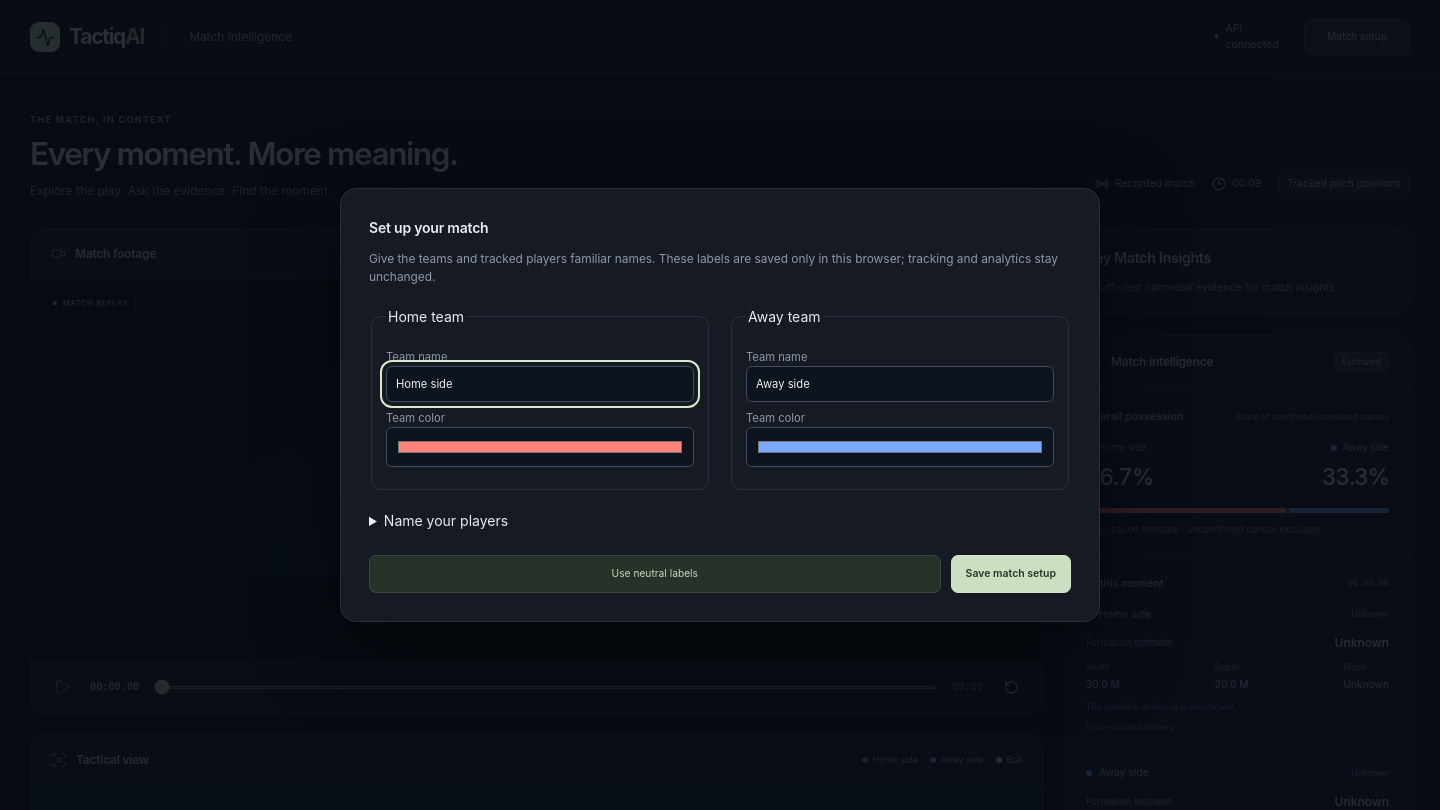
Test: prompts first-time setup and saves team names and colors
Check: the dialog is shown, box [340,188,1100,622]
Replace the text in the 1st field labelled "Team name" with "Berry FC" at (540, 384), box [386,366,694,402]
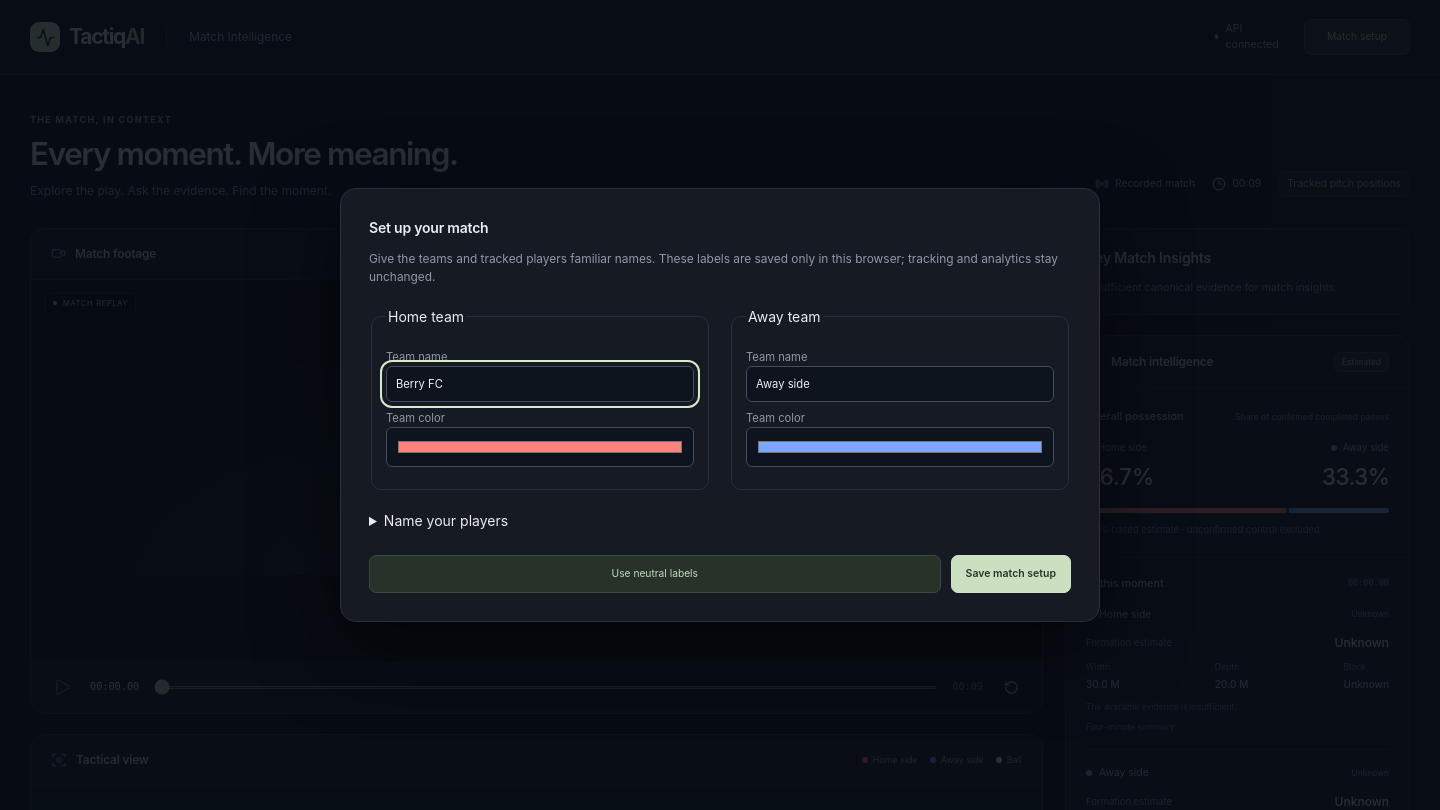
Click the button "Save match setup" at (1011, 574), box [950,555,1071,593]
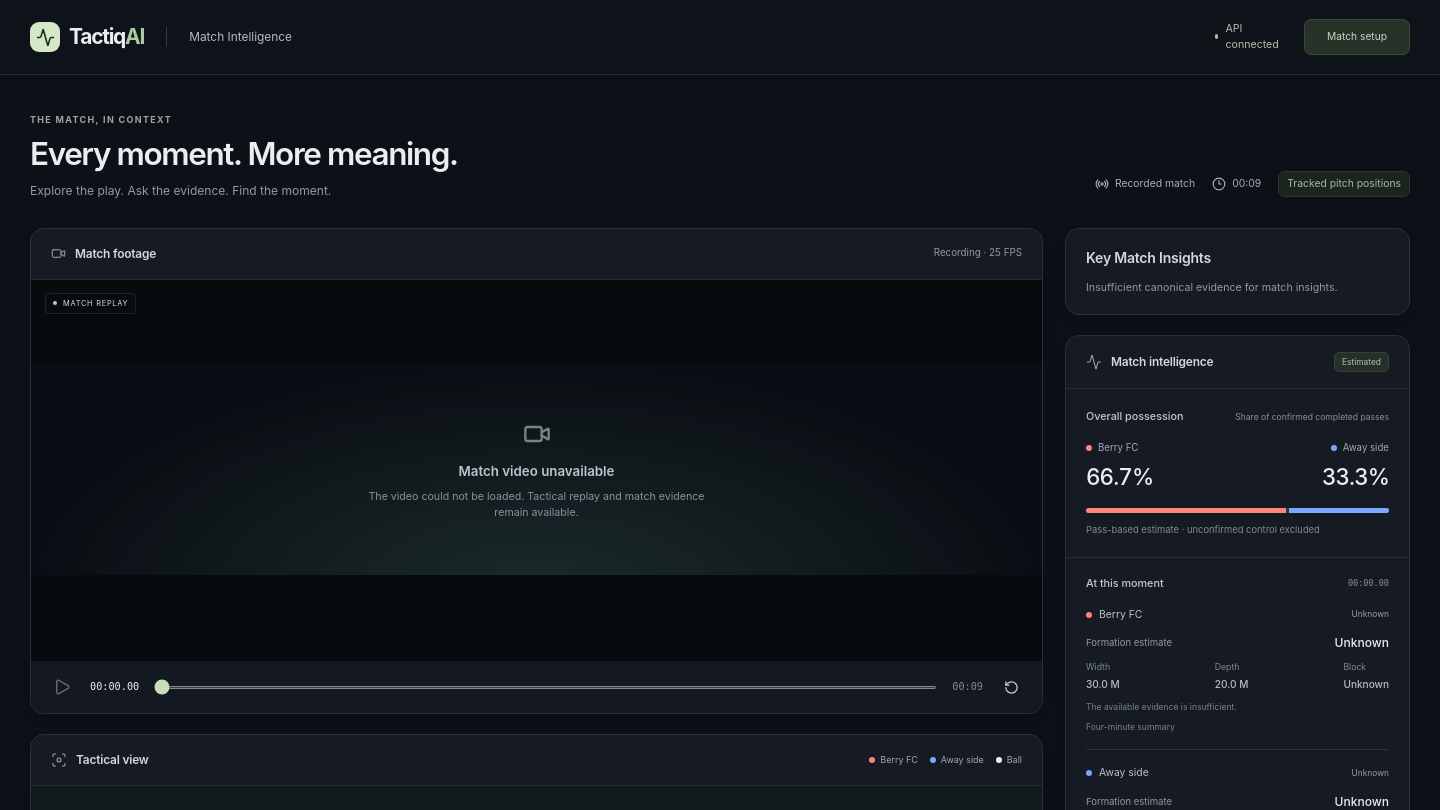
Check: the dialog is gone
Check: the element showing "Berry FC" in the row of "Ball" is shown, box [880,754,918,765]
